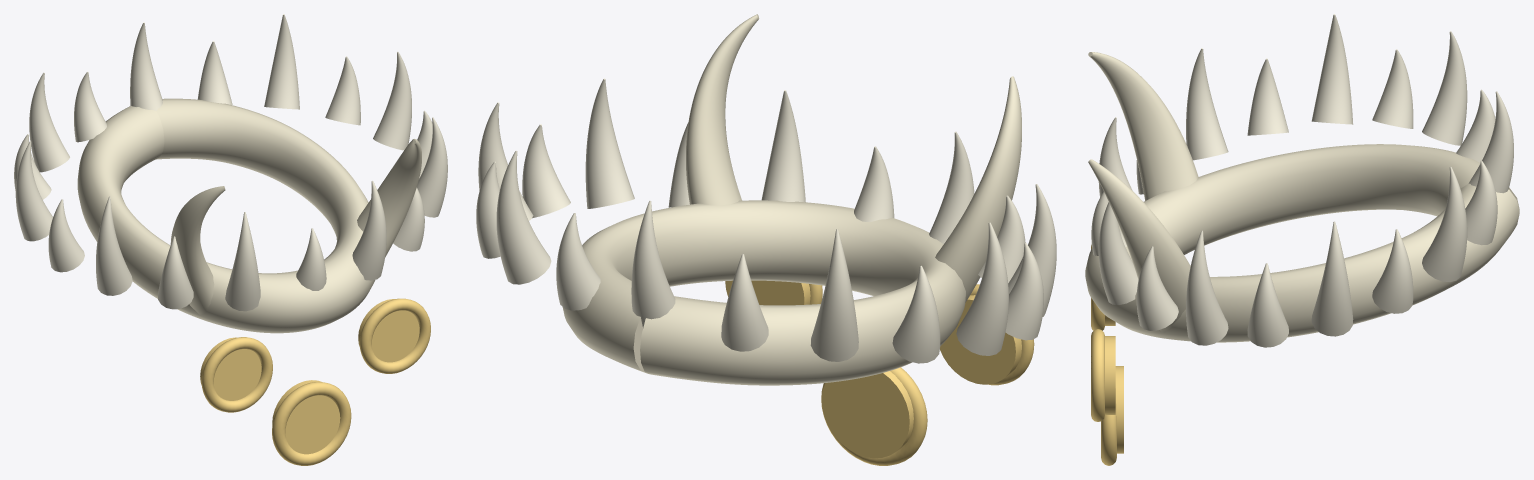
File: pyke_harness.glb
The picture shows the model from 3 angles, left to right: view 1: azimuth 30°, elevation 25°; view 2: azimuth 150°, elevation 25°; view 3: azimuth 270°, elevation 25°; orthographic projection. The views are drawn at different scales.
Visible parts, largest first — view 1: pyke_harness; view 2: pyke_harness; view 3: pyke_harness.
Part boxes in pixels (left/top/right/bottom): pyke_harness: left=14, top=14, right=447, bottom=465; pyke_harness: left=476, top=14, right=1056, bottom=465; pyke_harness: left=1085, top=14, right=1519, bottom=465.
Size of the model in its own units: 0.5968 by 0.4636 by 0.4942.
